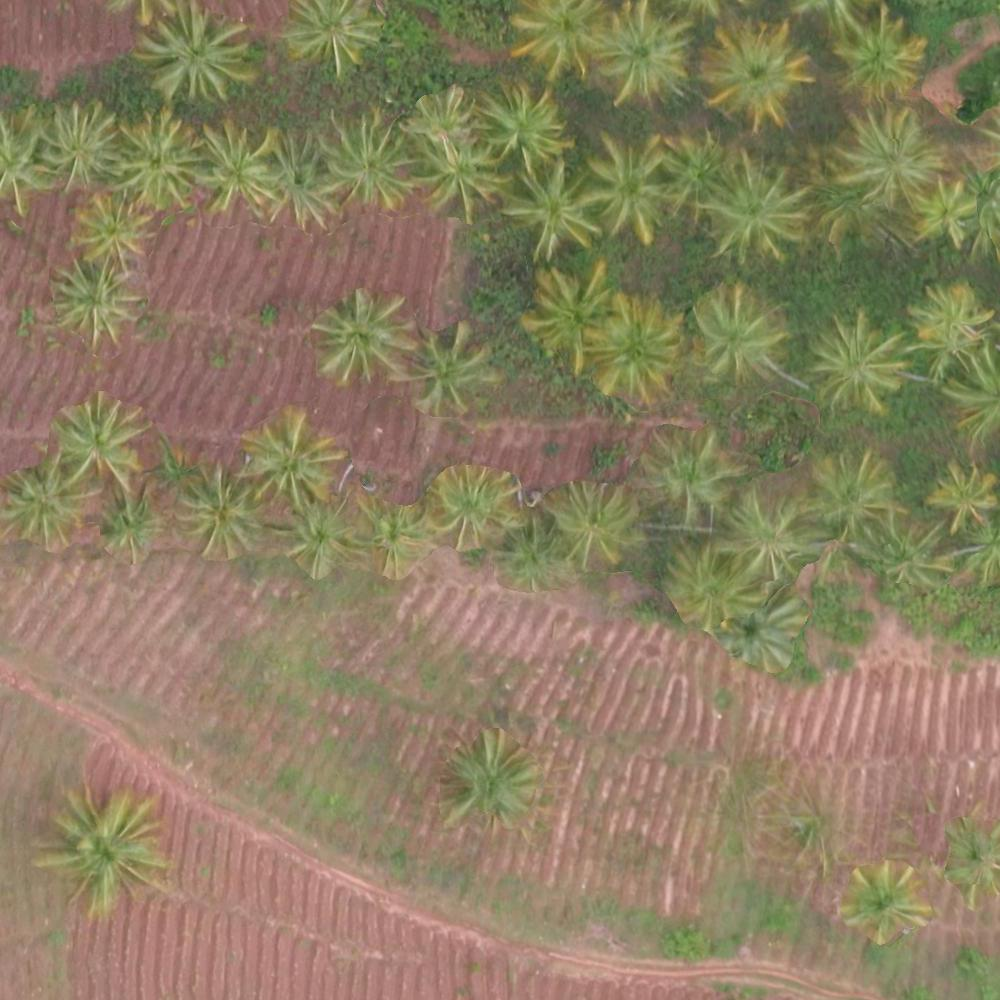Palm: (43, 788, 165, 904), (705, 23, 808, 126), (141, 7, 254, 100), (703, 155, 803, 255), (526, 266, 626, 364), (597, 2, 695, 97), (836, 111, 940, 199), (438, 734, 533, 829), (587, 299, 675, 397), (810, 315, 903, 407), (587, 135, 677, 230), (403, 322, 495, 414), (244, 414, 338, 504), (50, 394, 149, 478), (315, 293, 413, 376), (327, 116, 416, 207), (174, 468, 263, 559), (510, 161, 599, 251), (255, 130, 338, 226), (694, 289, 783, 378), (2, 458, 92, 546), (833, 16, 924, 100), (803, 454, 897, 533), (187, 124, 274, 209), (509, 1, 599, 80), (49, 262, 140, 340), (282, 1, 380, 73), (109, 123, 200, 200), (644, 433, 731, 512), (482, 84, 571, 161), (270, 502, 359, 577), (552, 483, 634, 564), (726, 492, 807, 571), (440, 467, 518, 548), (845, 861, 929, 936), (419, 133, 500, 210), (41, 102, 118, 181), (357, 495, 430, 571), (74, 189, 150, 261), (924, 459, 1000, 531), (914, 180, 980, 240), (95, 491, 158, 551)
